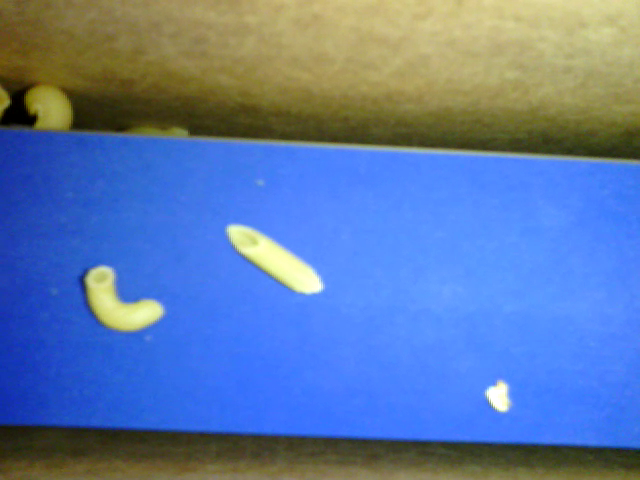elbow: (83, 266, 166, 334)
penne: (226, 225, 324, 297)
shell: (22, 82, 71, 131)
